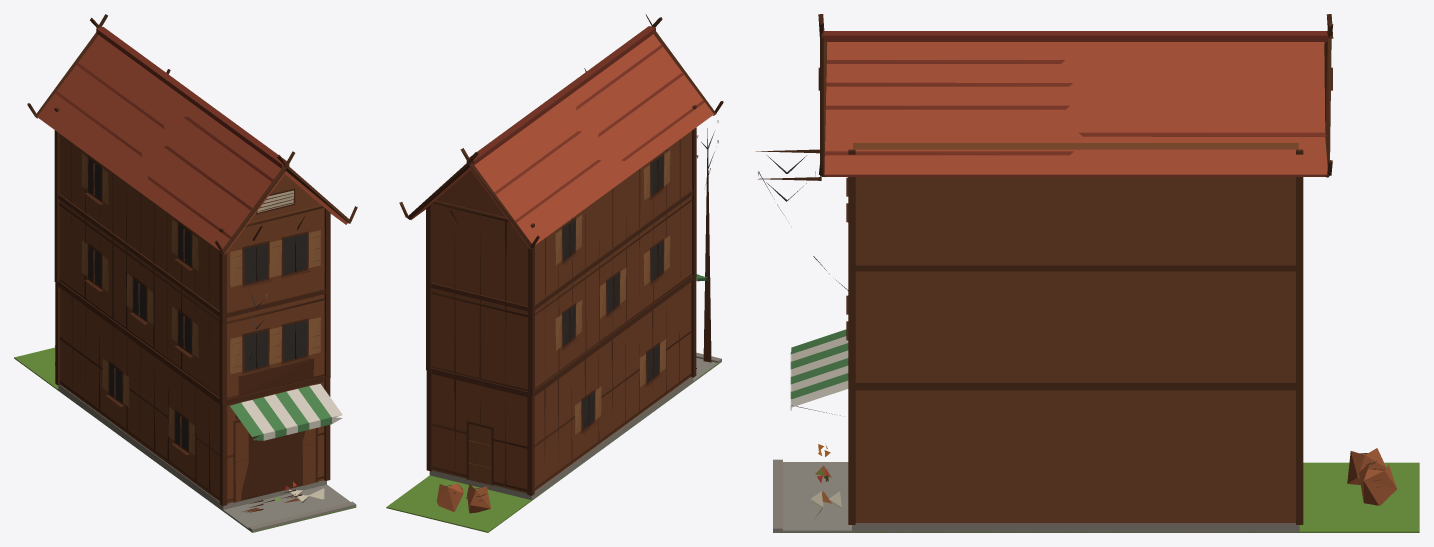
Rendered from bay2_left.glb.
The picture shows the model from 3 angles, left to right: view 1: azimuth 30°, elevation 25°; view 2: azimuth 150°, elevation 25°; view 3: azimuth 270°, elevation 25°; orthographic projection. The views are drawn at different scales.
Visible parts, largest first — view 1: body, windows; view 2: body, windows; view 3: body.
Part boxes in pixels (<box>): body: <box>14,14,357,532</box>; windows: <box>88,159,306,450</box>; body: <box>386,14,723,532</box>; windows: <box>563,155,663,429</box>; body: <box>756,14,1419,532</box>.
Size of the model in its own units: 5.53 by 13.05 by 16.4.
